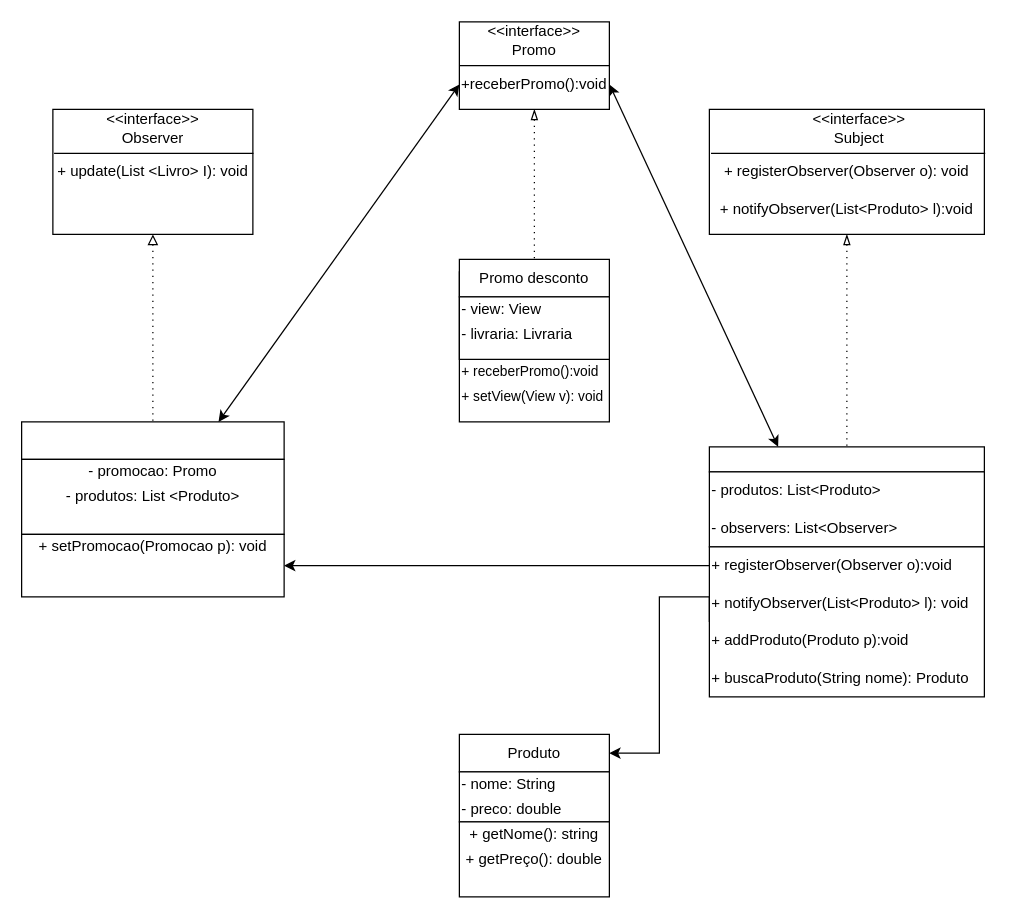
Image size: 1009x919. Some labels were removed from this diagram. The box of each missing label's shape, as (x1, y1, x2, y2) in pixels:
Livraria: (708, 446, 984, 472)
View: (20, 421, 284, 459)
